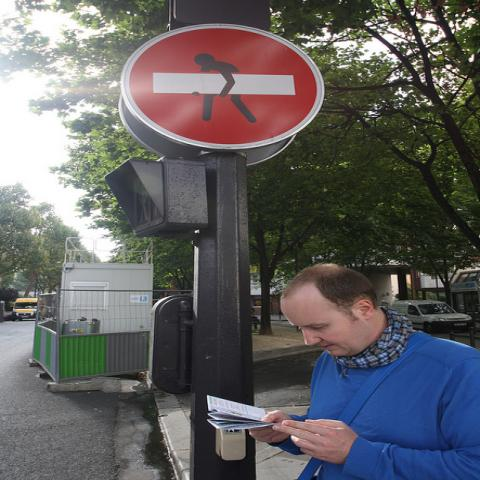bus: (11, 297, 37, 322)
car: (391, 299, 475, 334)
